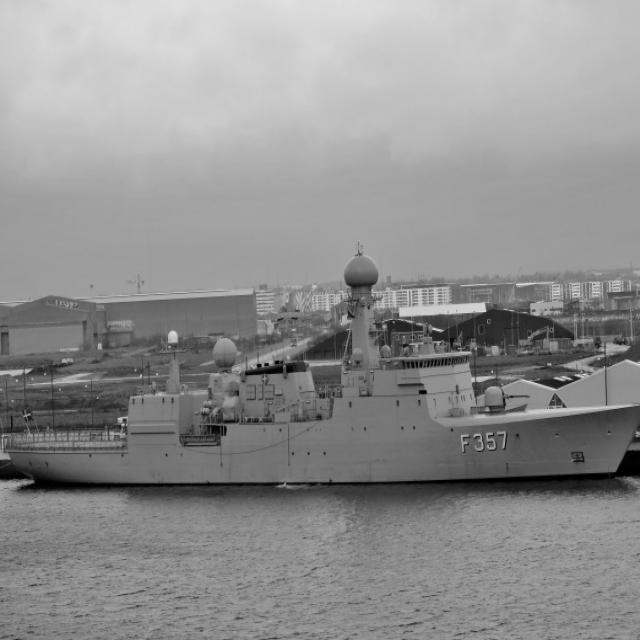Fragata: (7, 239, 640, 497)
